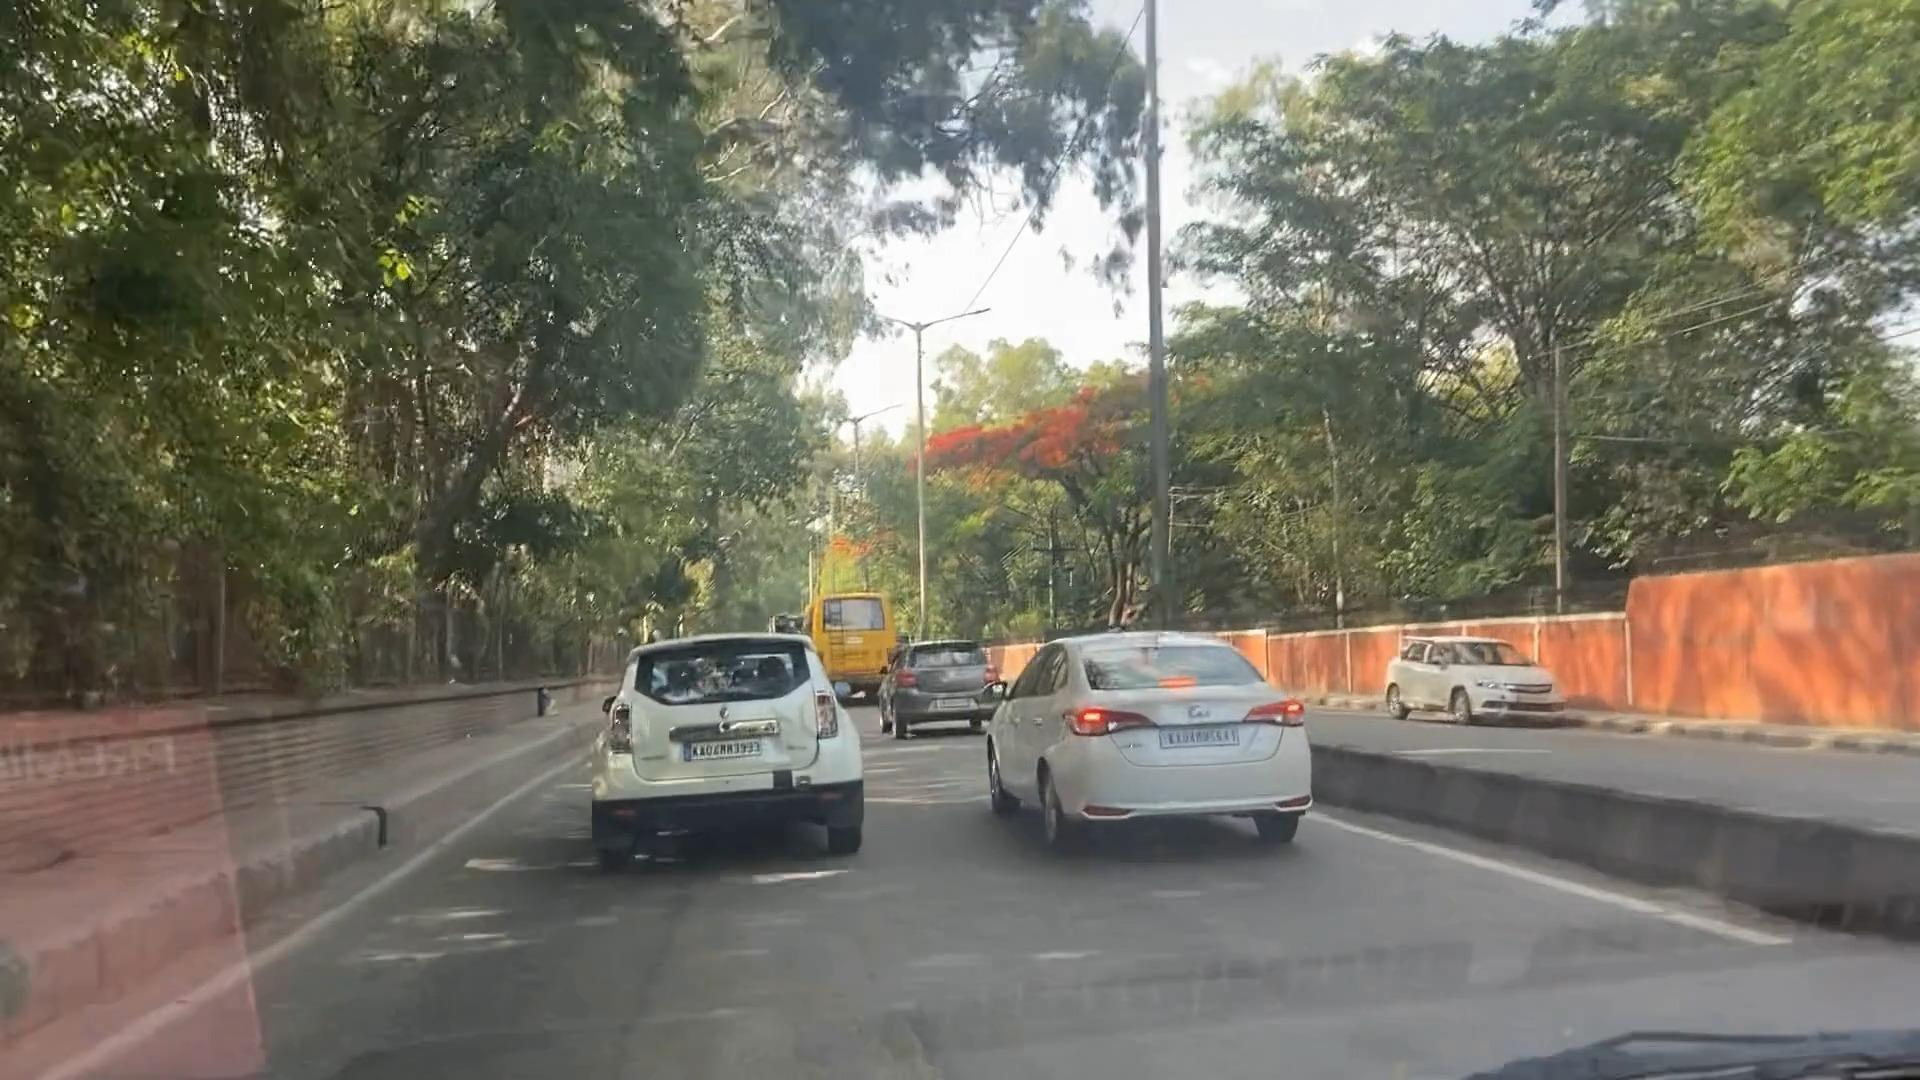LMV: (1004, 638, 1315, 844), (592, 645, 864, 849), (882, 636, 994, 721)
RoadDamages: (338, 1009, 969, 1080)
